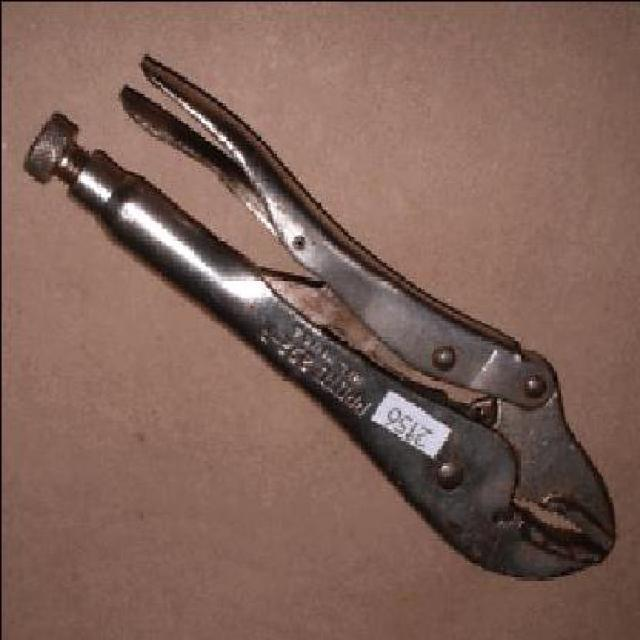pliers: (22, 54, 616, 582)
